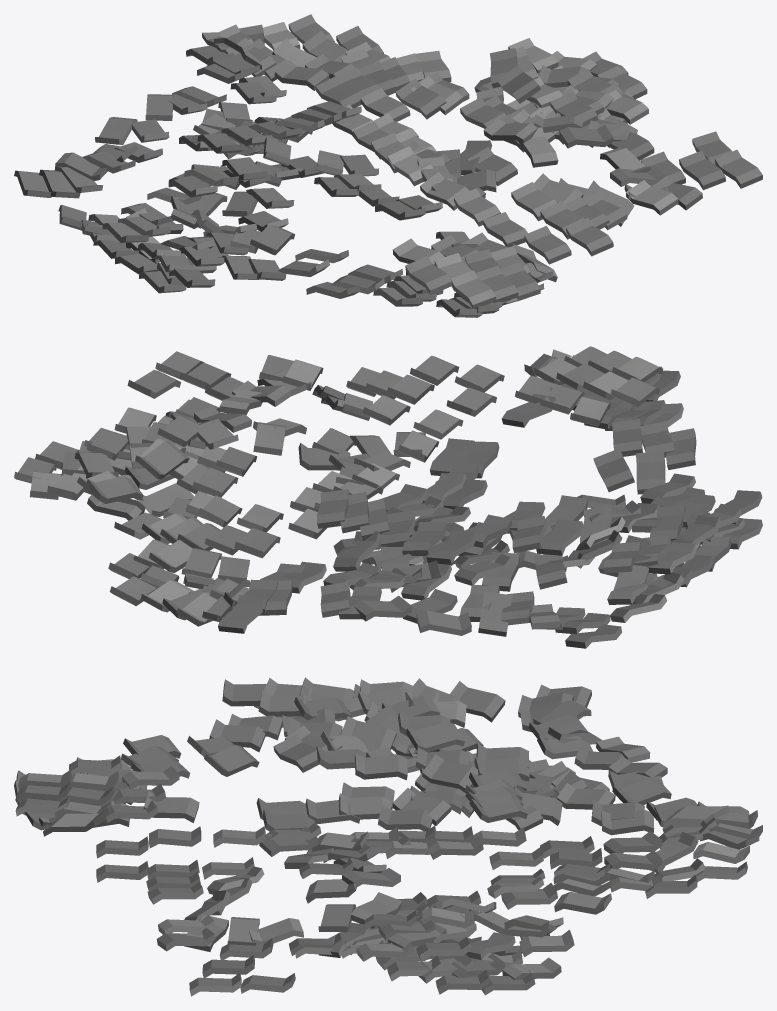
The model's file is TelhadoDestruidoVer3.fbx.
The picture shows the model from 3 angles, top to bottom: view 1: azimuth 30°, elevation 25°; view 2: azimuth 150°, elevation 25°; view 3: azimuth 270°, elevation 25°; orthographic projection. The views are drawn at different scales.
Parts seen in each view (by area): view 1: TelhadoQuebradoVer3; view 2: TelhadoQuebradoVer3; view 3: TelhadoQuebradoVer3.
Part boxes in pixels (x1,y1,x2,y2): TelhadoQuebradoVer3: (14,14,762,317); TelhadoQuebradoVer3: (14,346,762,648); TelhadoQuebradoVer3: (14,677,762,996).
Size of the model in its own units: 1140 by 106 by 1186.
